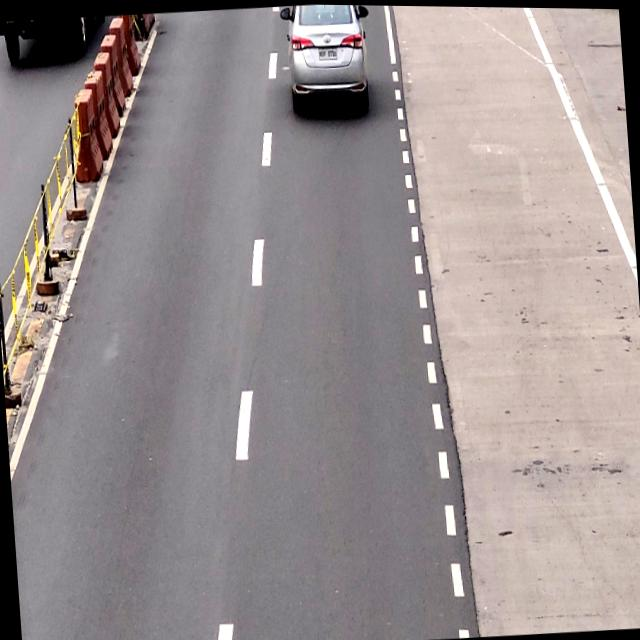Car: (283, 3, 370, 116)
License-Plate: (316, 46, 338, 61)
